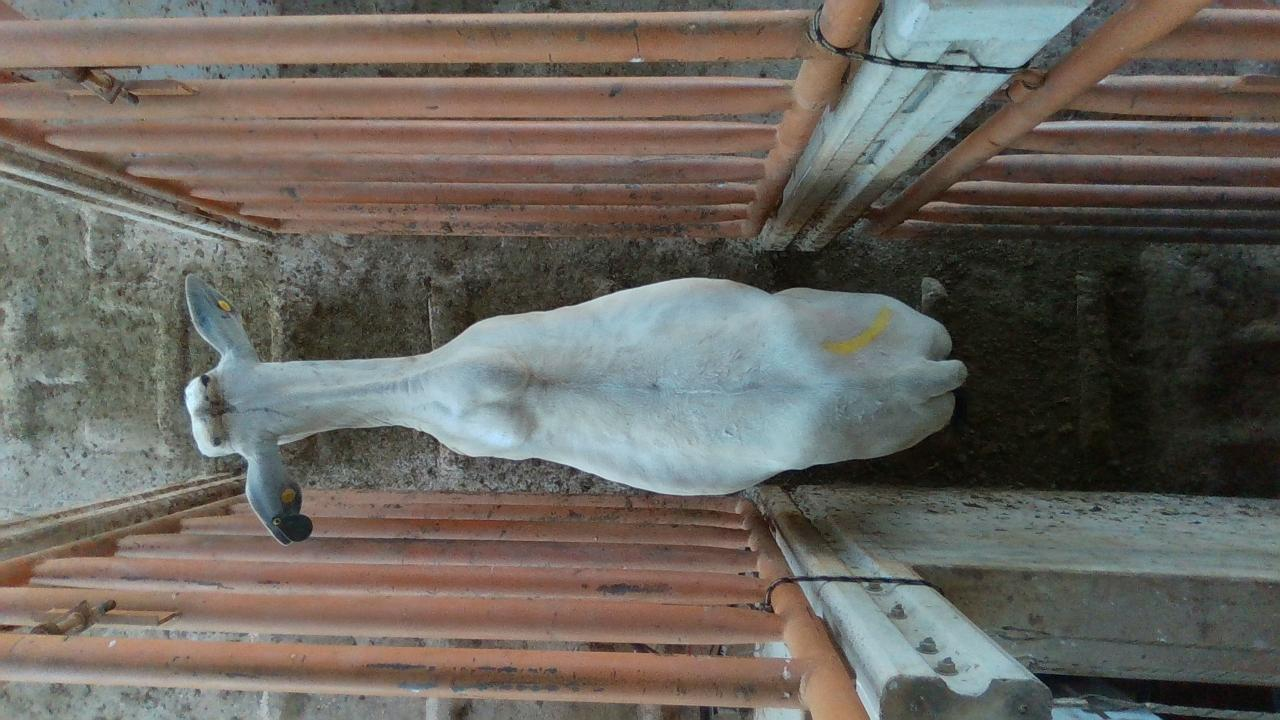cattle: (180, 271, 968, 546)
